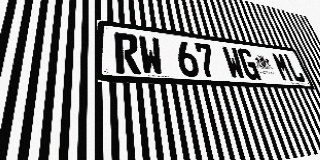6: (174, 40, 201, 77)
7: (193, 42, 219, 78)
G: (236, 48, 262, 80)
L: (283, 54, 306, 83)
M: (271, 52, 295, 82)
R: (114, 32, 141, 74)
W: (138, 35, 165, 76), (221, 46, 247, 80)
